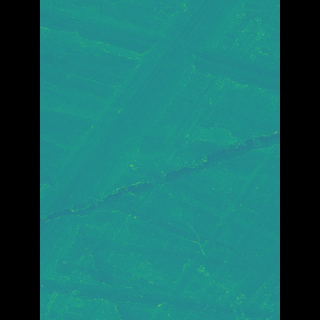Loch: (70, 0, 222, 282), (69, 122, 251, 227), (152, 146, 249, 319), (69, 276, 249, 319)
